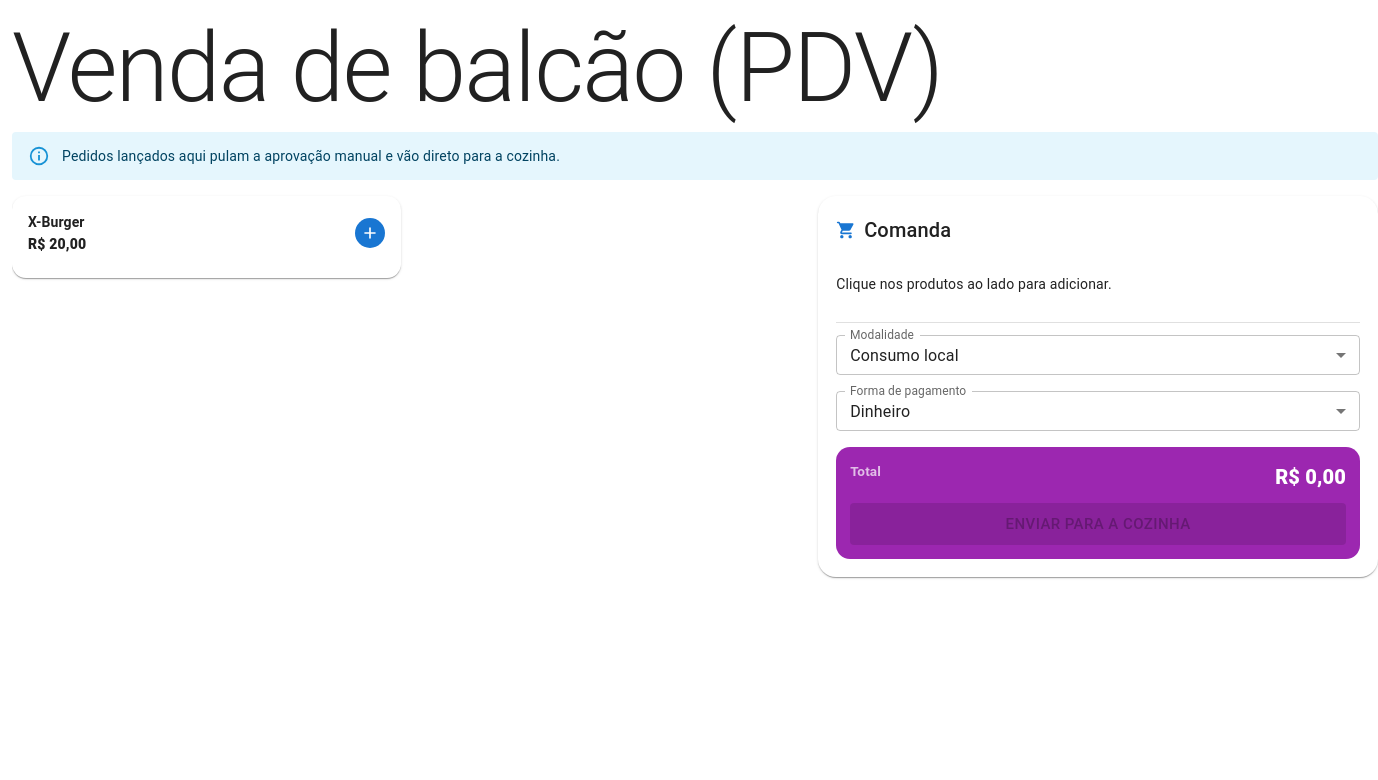
it: PdvPage › clicar num produto adiciona à comanda e soma o total
Click the heading "X-Burger": [57, 223] box [28,212,86,234]
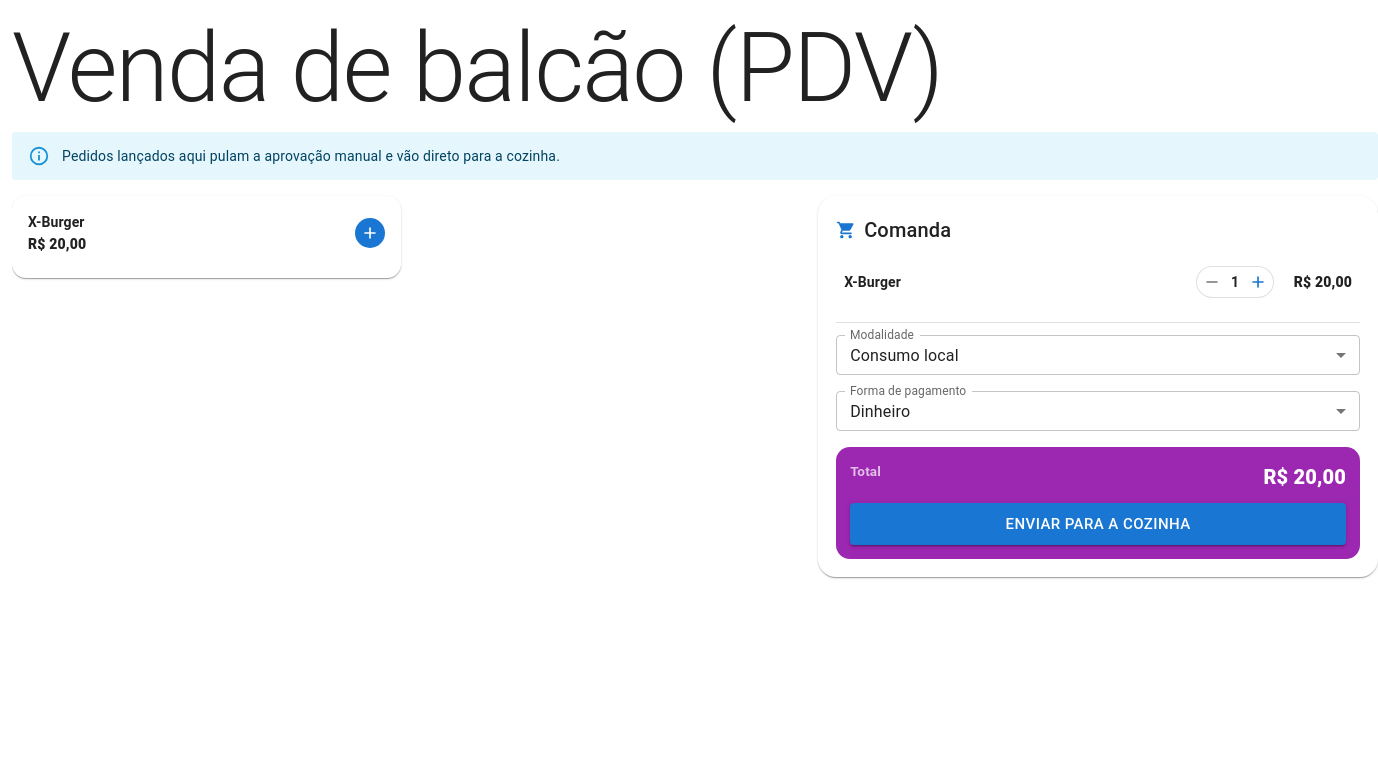
Expected: the 1st text "R$ 20,00" is shown, [28,234,86,254]
Click the heading "X-Burger": [57, 223] box [28,212,86,234]
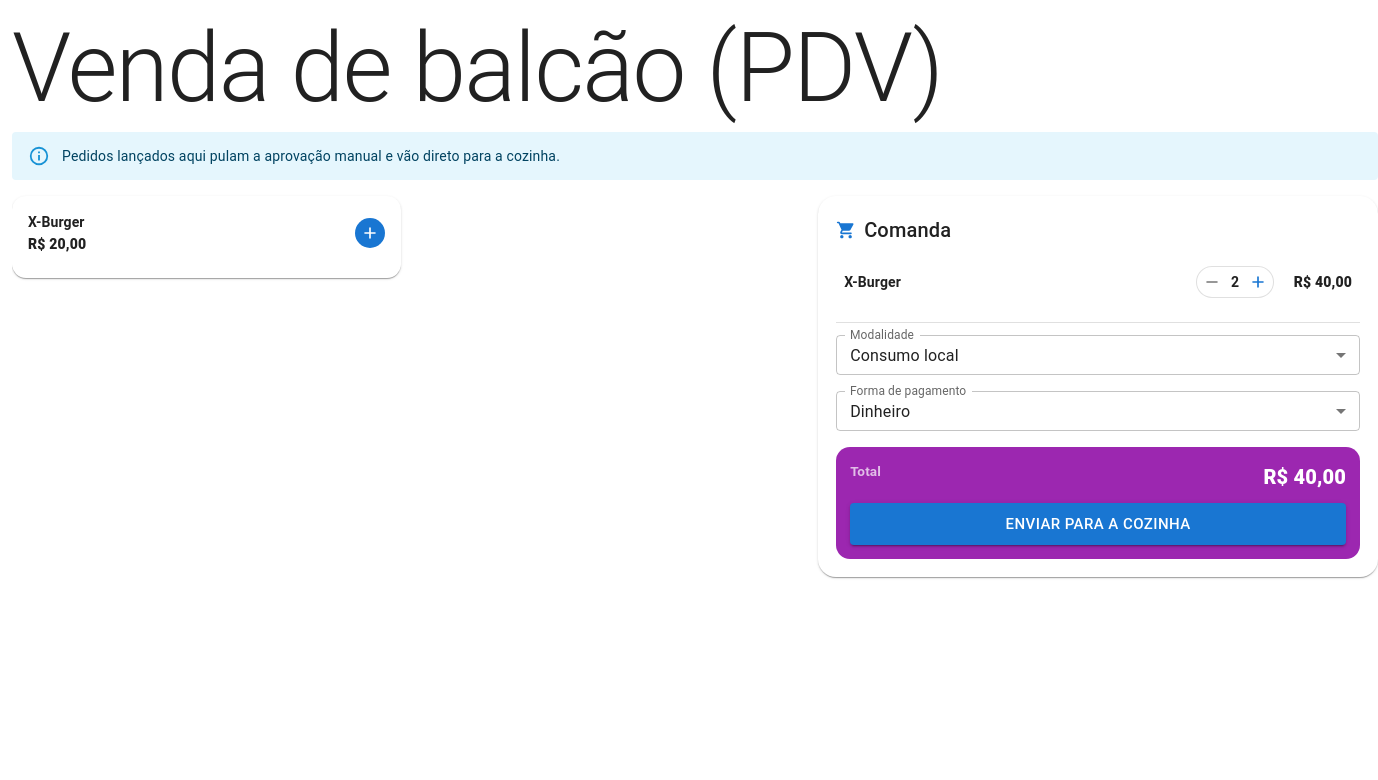
Expected: the text "R$ 40,00" is shown, [1294,274,1352,290]
